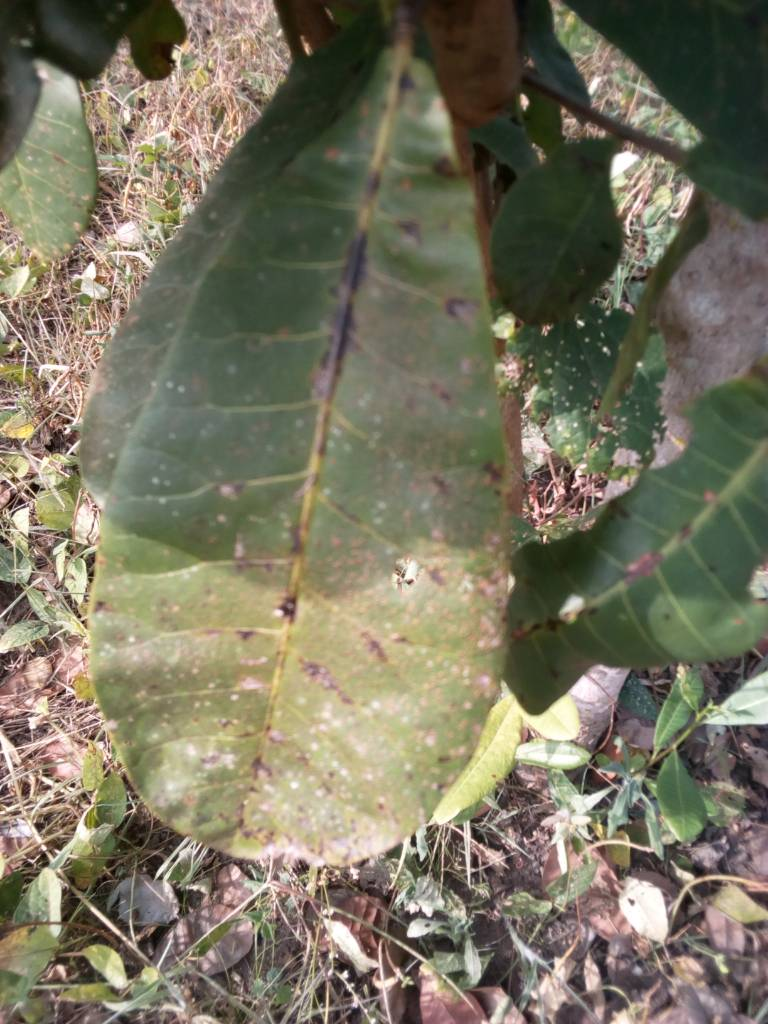Oidium: (83, 47, 593, 886)
